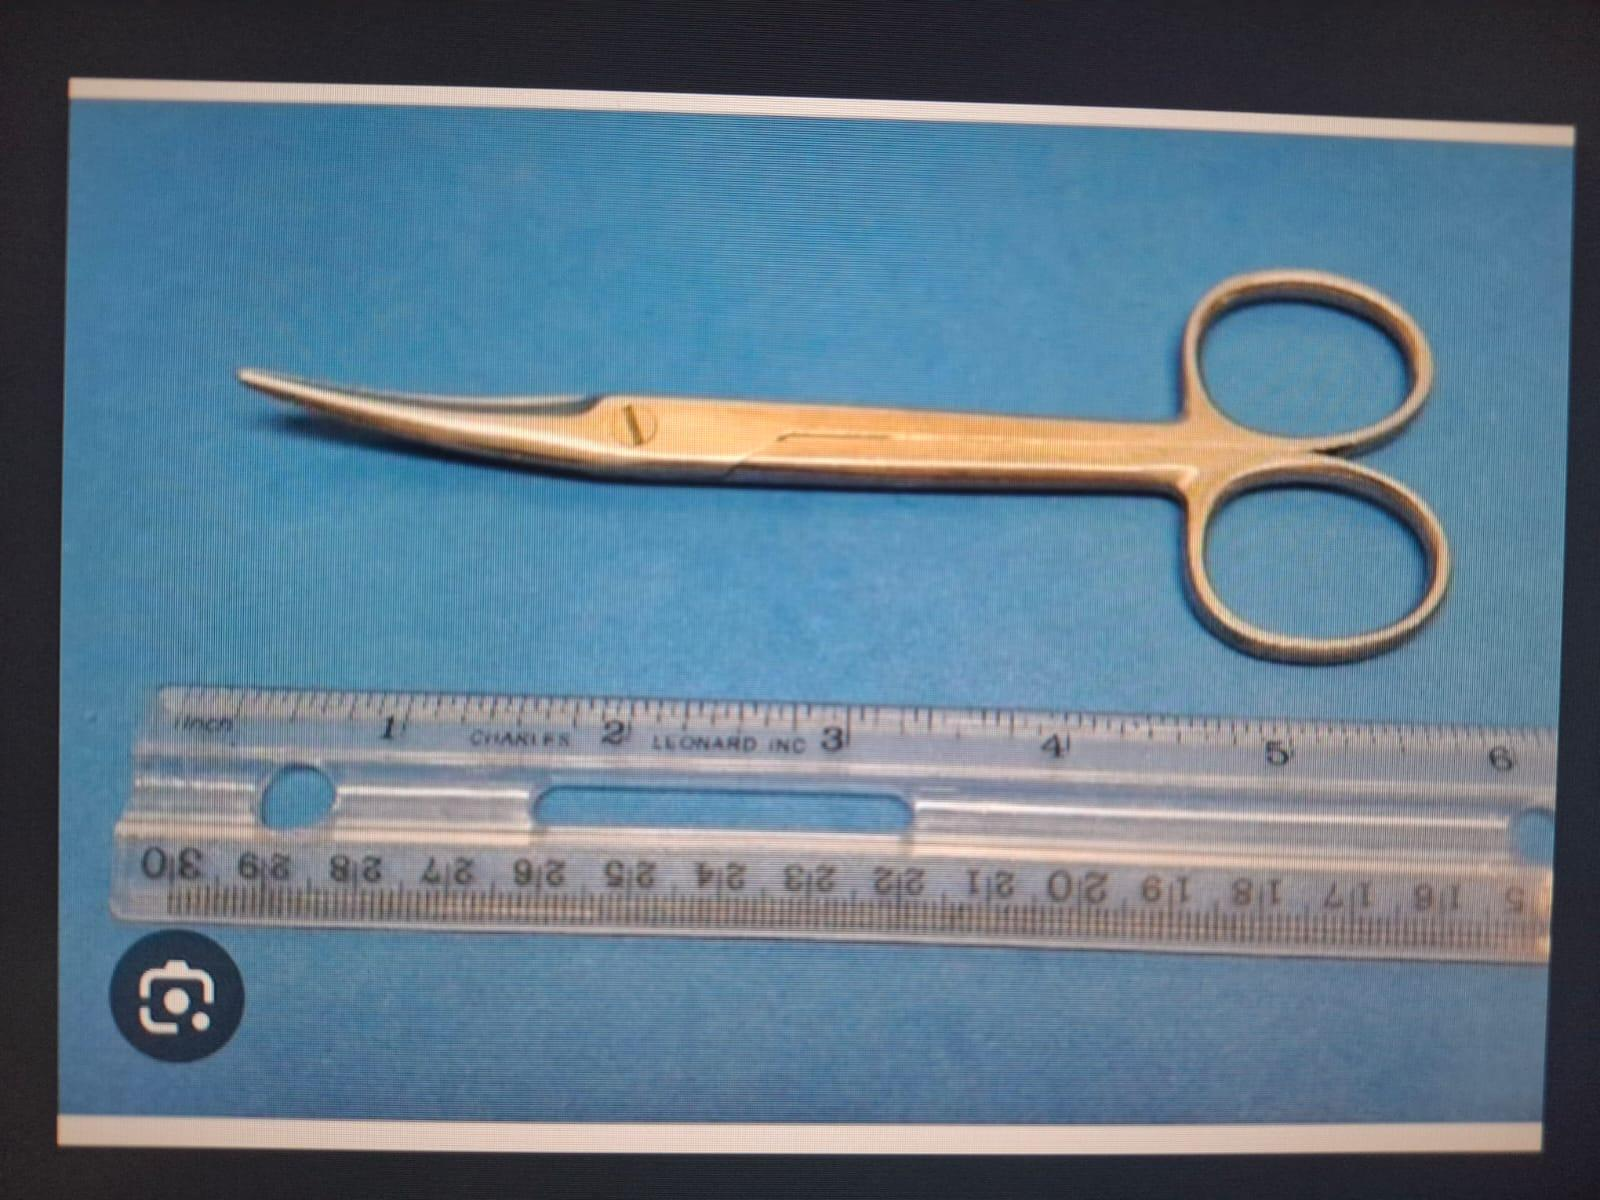Curved Mayo: (222, 260, 1468, 682)
